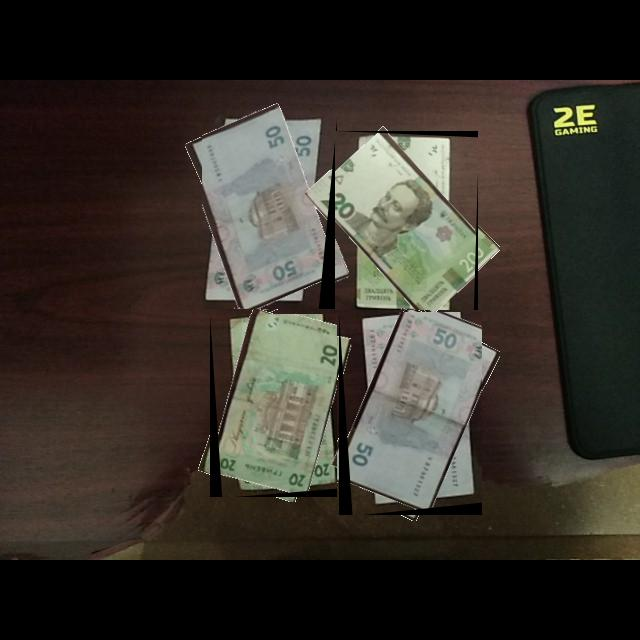20uah: (335, 131, 479, 311), (210, 314, 338, 498)
50uah: (339, 312, 483, 516), (202, 110, 338, 310)
